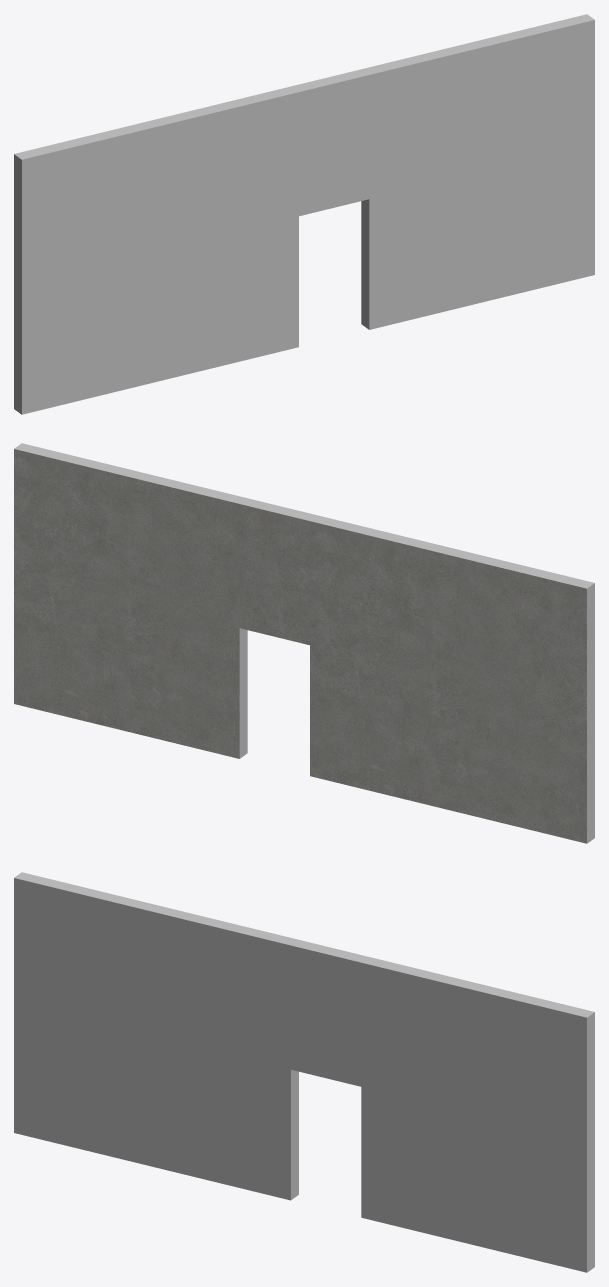
Rendered from ParedIntermedia.fbx.
The picture shows the model from 3 angles, top to bottom: view 1: azimuth 30°, elevation 25°; view 2: azimuth 150°, elevation 25°; view 3: azimuth 330°, elevation 25°; orthographic projection.
Parts seen in each view (by area): view 1: Box174; view 2: Box174; view 3: Box174.
Part boxes in pixels (x1,y1,x2,y2): Box174: (14,14,594,414); Box174: (14,443,594,843); Box174: (14,872,594,1272).
Bounding box in the file's own units: 576 × 245 × 13.69.
